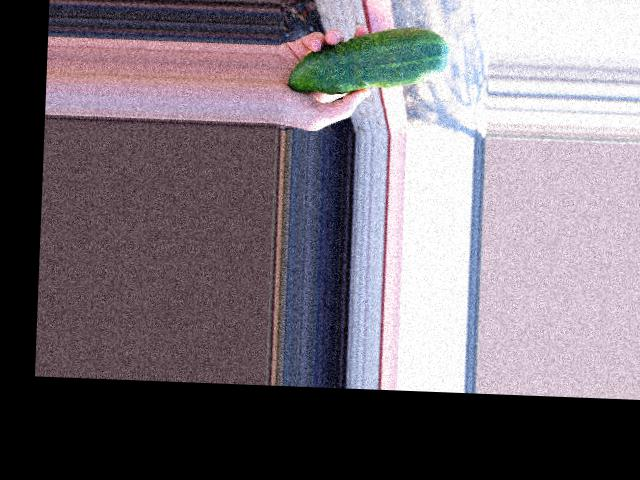cucumber: (288, 21, 450, 98)
